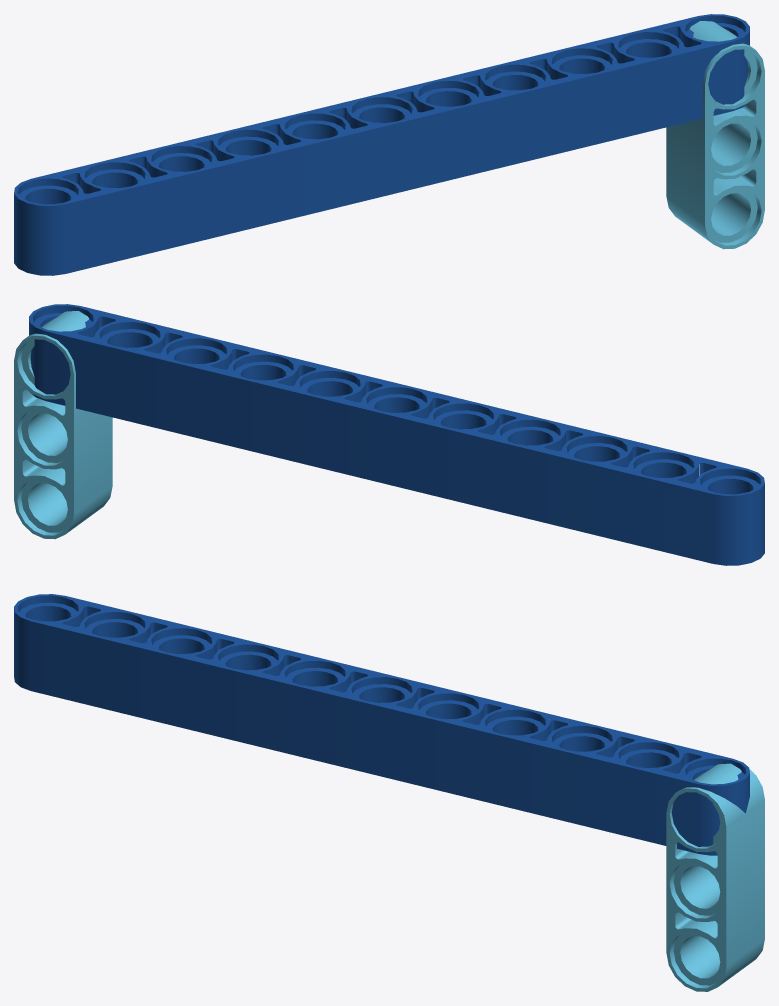
The model's file is tool.glb.
3 views of the same model, one above another, from view 1: azimuth 30°, elevation 25°; view 2: azimuth 150°, elevation 25°; view 3: azimuth 330°, elevation 25° (orthographic).
Visible parts, largest first — view 1: 32525.dat, 32523.dat; view 2: 32525.dat, 32523.dat; view 3: 32525.dat, 32523.dat.
Boxes of the visible parts, <box> form: 32525.dat: <box>14,14,749,275</box>; 32523.dat: <box>666,21,764,249</box>; 32525.dat: <box>29,304,764,565</box>; 32523.dat: <box>14,311,112,539</box>; 32525.dat: <box>14,594,749,855</box>; 32523.dat: <box>666,763,764,991</box>.
Bounding box in the file's own units: 8.72 × 2.36 × 0.8.
